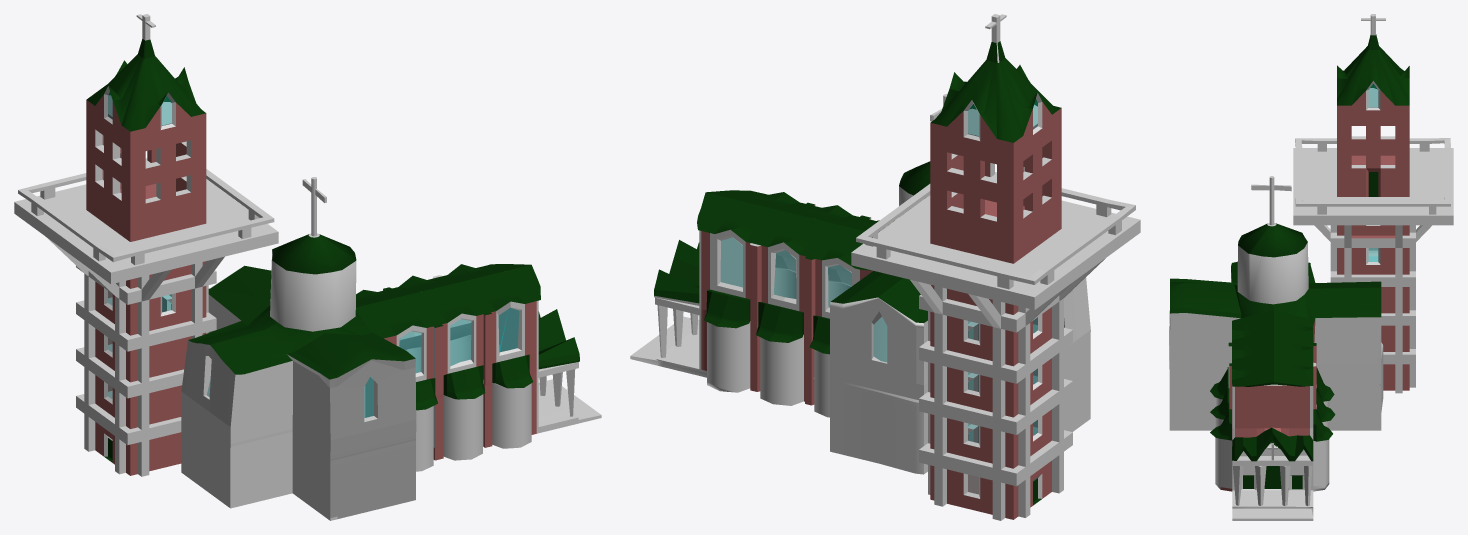
File: Chiesa.fbx
3 views of the same model, side by side, from view 1: azimuth 30°, elevation 25°; view 2: azimuth 150°, elevation 25°; view 3: azimuth 270°, elevation 25° (orthographic). The views are drawn at different scales.
Visible parts, largest first — view 1: polySurface174; view 2: polySurface174; view 3: polySurface174.
Boxes of the visible parts, x1,y1,x2,y2 form: polySurface174: (14,14,601,520); polySurface174: (630,14,1140,520); polySurface174: (1169,14,1453,520).
Size of the model in its own units: 347 by 318 by 227.
